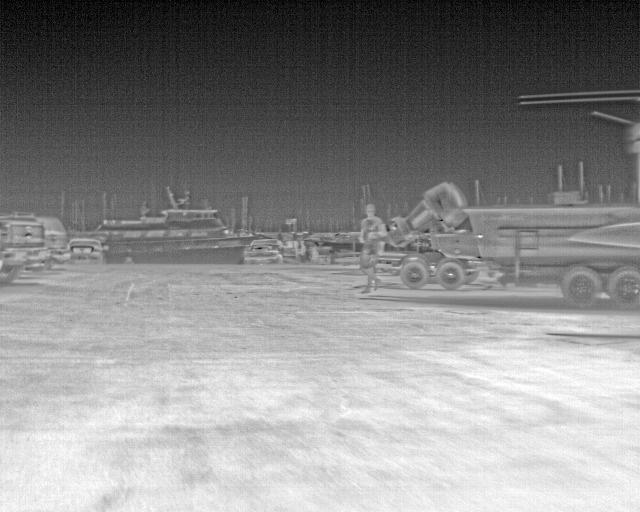bicycle: (1, 212, 45, 288), (240, 236, 308, 265), (33, 214, 68, 269), (67, 234, 107, 264)
empty: (357, 203, 386, 295)
